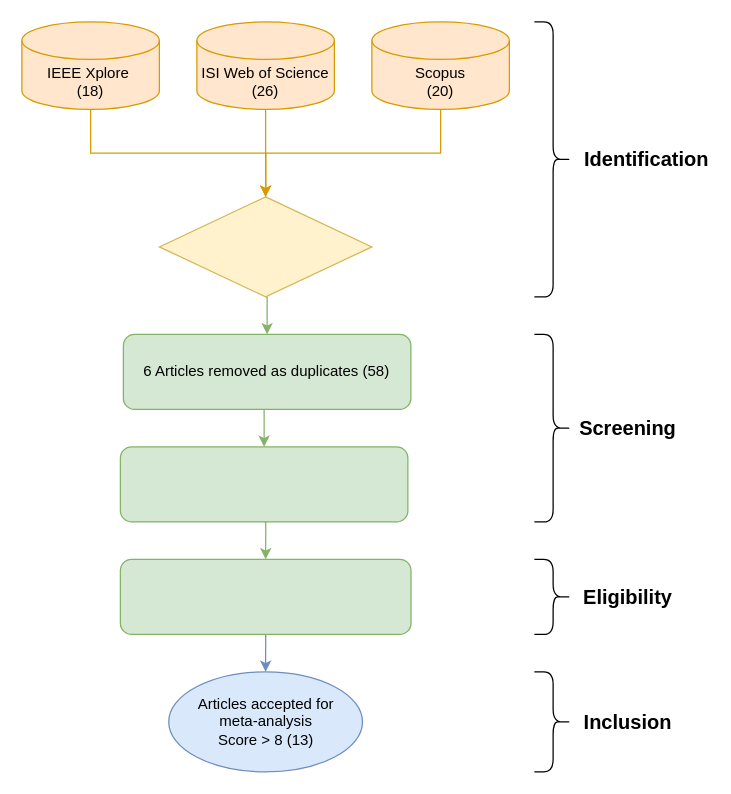
This 731x794 diagram has some shape labels left out. The box of each missing label's shape, as (x1, y1, x2, y2) in pixels:
34 Articles removed by inclusion and exclusion criteria (24): (119, 446, 408, 522)
64 Articles after search: (158, 196, 372, 297)
Study Quality Assessment Questionnaire (24): (119, 558, 411, 634)
